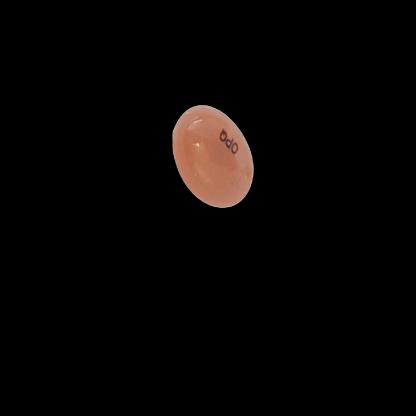opiqutan: (152, 79, 278, 234)
